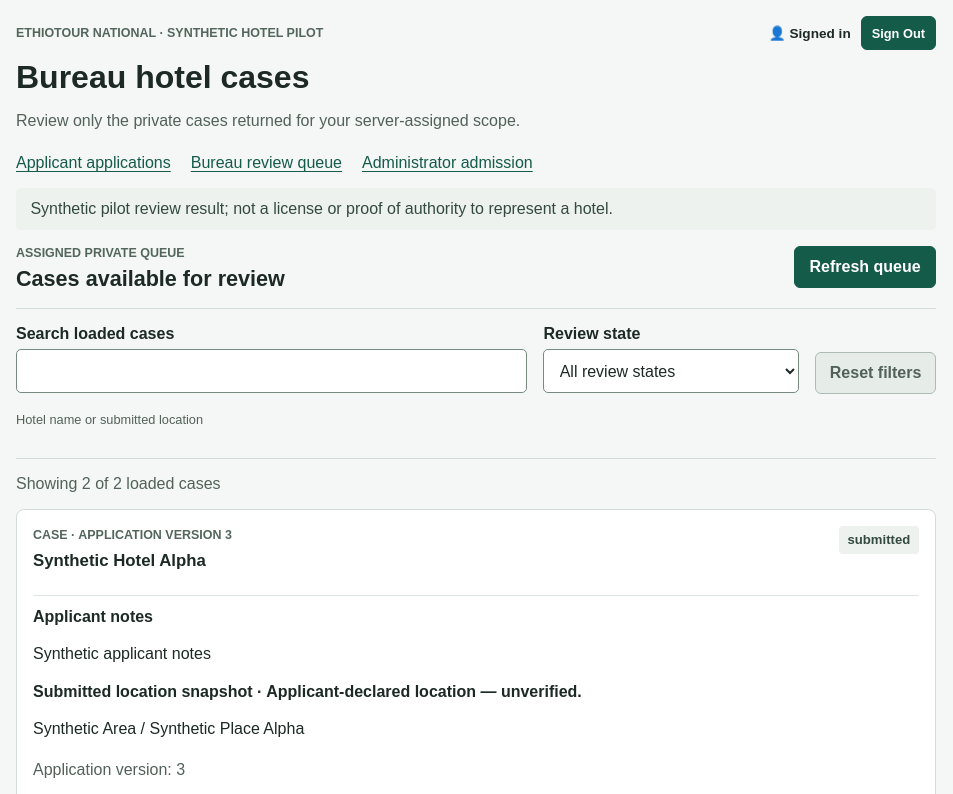
Test: Bureau loaded queue presentation › reports refresh failure without presenting an empty success or losing the loaded queue
Expected: the text "Showing 2 of 2 loaded cases" is shown, x1=16 y1=475 x2=221 y2=492
Step 1. Click the button "Refresh queue" → (865, 267), box x1=794 y1=246 x2=936 y2=288
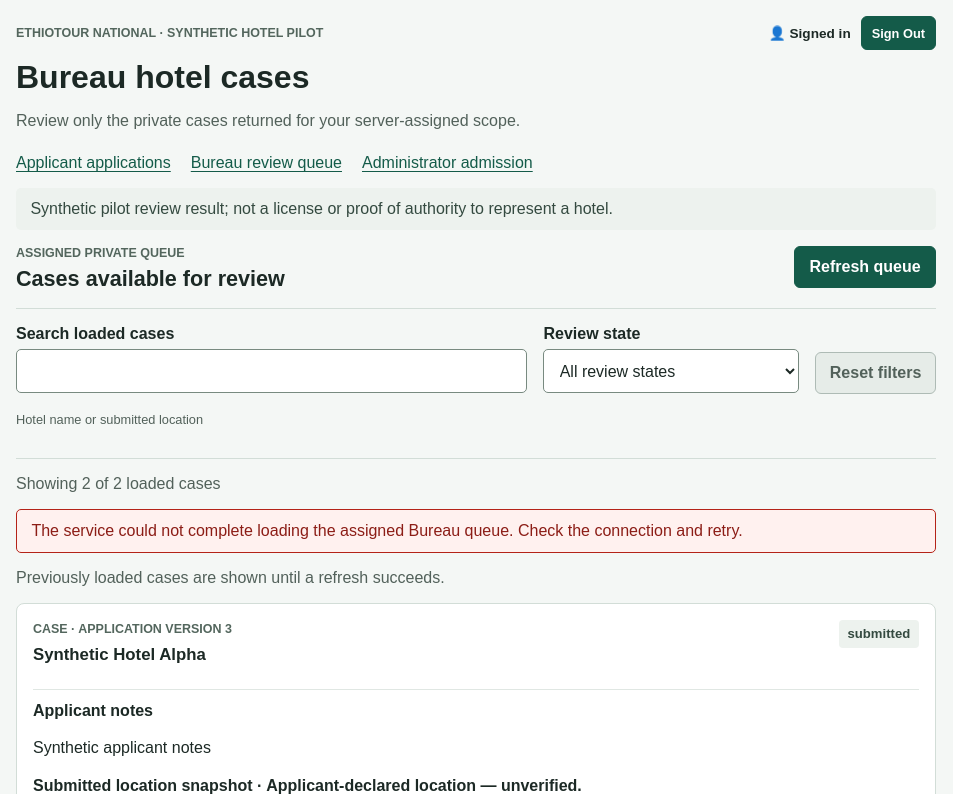
Expected: the text "Showing 2 of 2 loaded cases" is shown, x1=16 y1=475 x2=221 y2=492
Result: the 2nd message is shown at x1=16 y1=509 x2=936 y2=553
Result: the text "Previously loaded cases are shown until a refresh succeeds." is shown at x1=16 y1=569 x2=445 y2=586
